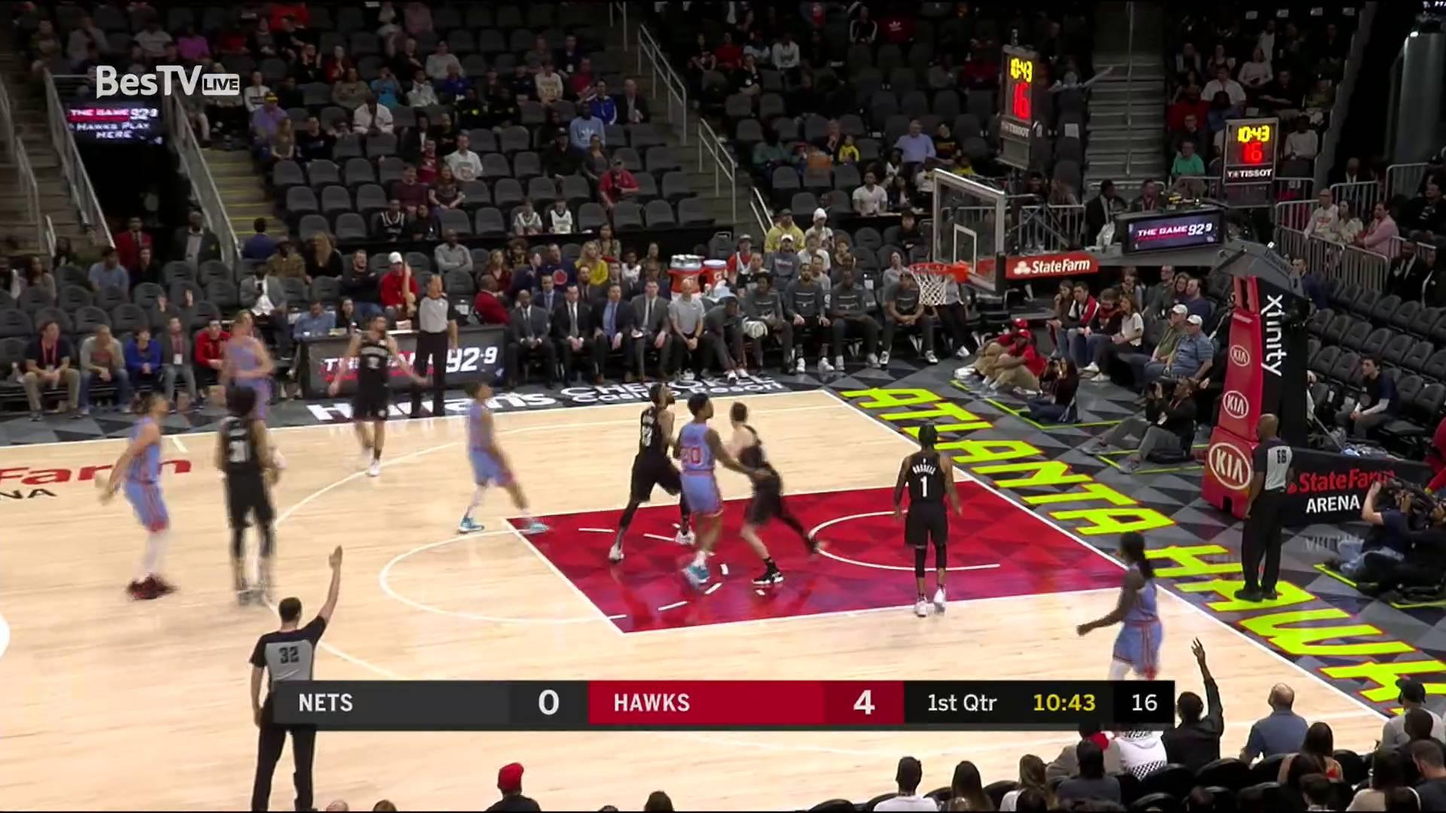basketball: (805, 149, 831, 179)
